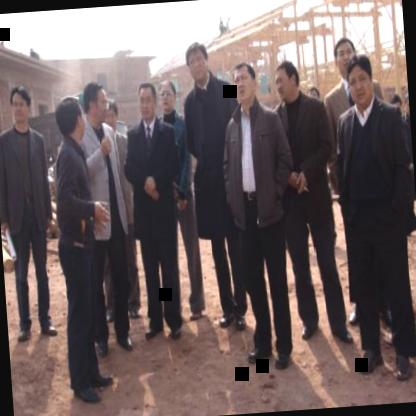head: (344, 50, 378, 112), (228, 55, 260, 113), (52, 96, 86, 150), (79, 81, 111, 131), (272, 58, 304, 106), (6, 84, 35, 134), (184, 37, 212, 87), (134, 78, 160, 126), (332, 33, 358, 80), (159, 78, 183, 119), (104, 96, 120, 136)
